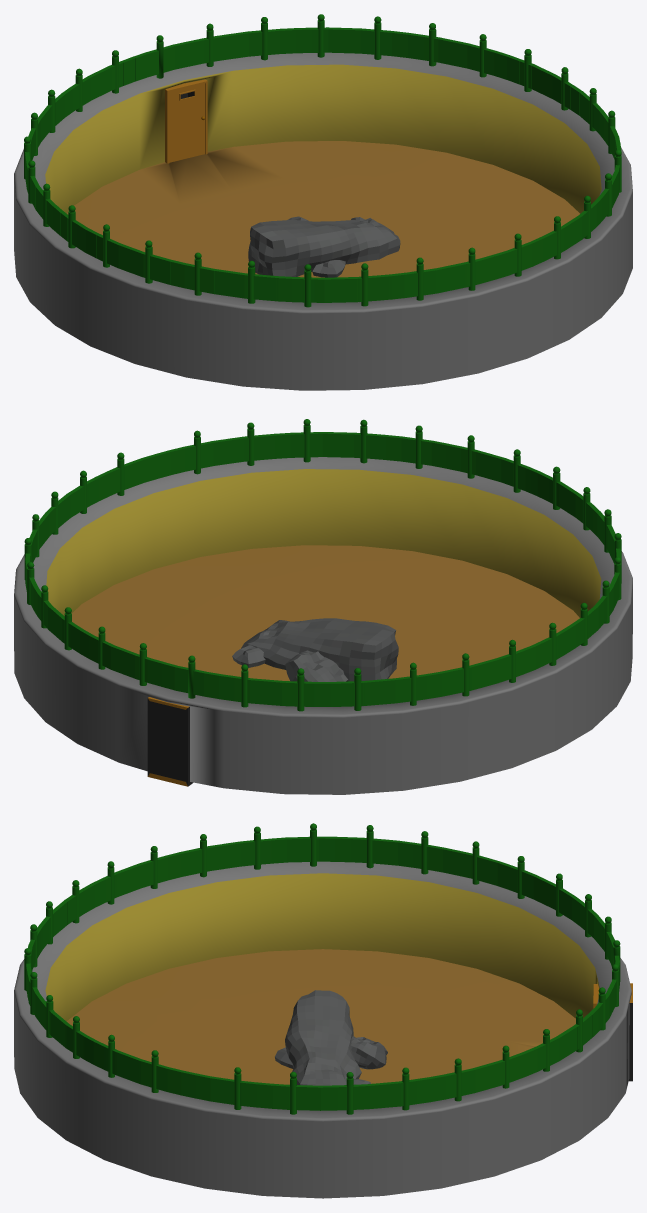
The model's file is Al_Biryerine_sok_mk.fbx.
3 renders of one model, top to bottom at view 1: azimuth 30°, elevation 25°; view 2: azimuth 150°, elevation 25°; view 3: azimuth 270°, elevation 25°, orthographic.
Parts seen in each view (by area): view 1: Cube.001; view 2: Cube.001; view 3: Cube.001.
Boxes of the visible parts, x1,y1,x2,y2 form: Cube.001: [14, 14, 632, 390]; Cube.001: [14, 419, 632, 794]; Cube.001: [14, 823, 632, 1198].
Size of the model in its own units: 2979 by 711 by 2985.
